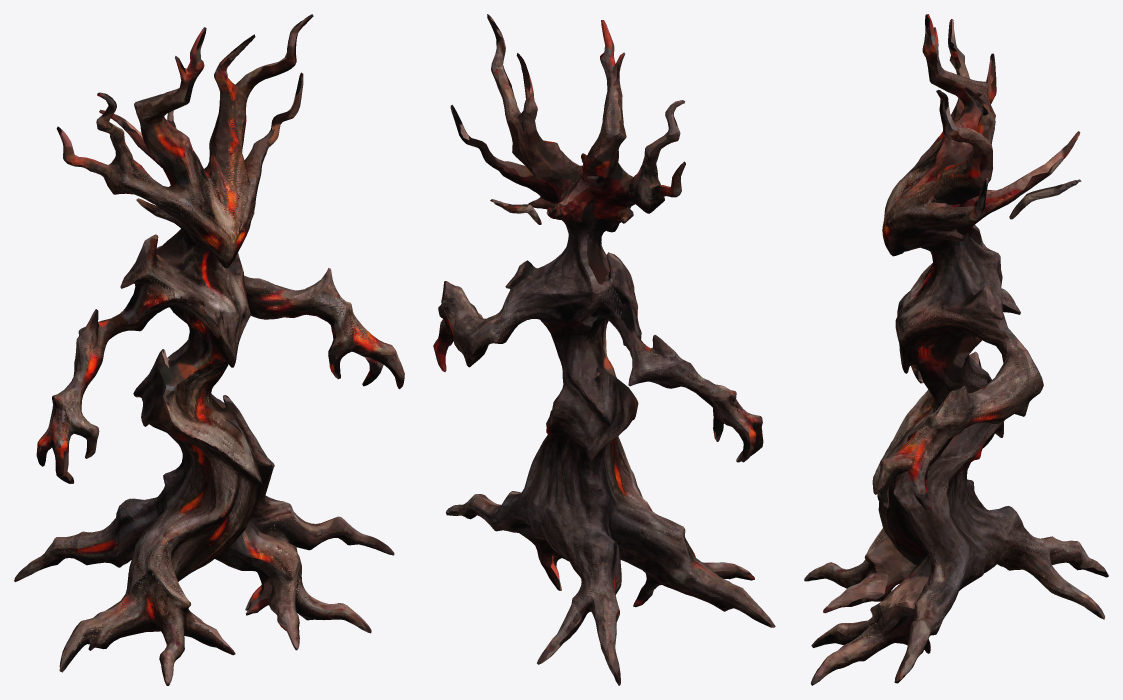
File: lava_dryad.glb
3 renders of one model, left to right at view 1: azimuth 30°, elevation 25°; view 2: azimuth 150°, elevation 25°; view 3: azimuth 270°, elevation 25°, orthographic. The views are drawn at different scales.
Parts seen in each view (by area): view 1: temp_mesh.ply; view 2: temp_mesh.ply; view 3: temp_mesh.ply.
Part boxes in pixels (x1,y1,x2,y2): temp_mesh.ply: (14,14,404,685); temp_mesh.ply: (433,14,775,685); temp_mesh.ply: (804,14,1108,685).
Bounding box in the file's own units: 1.18 × 1.97 × 0.8794.
1 material, 1 textured.
